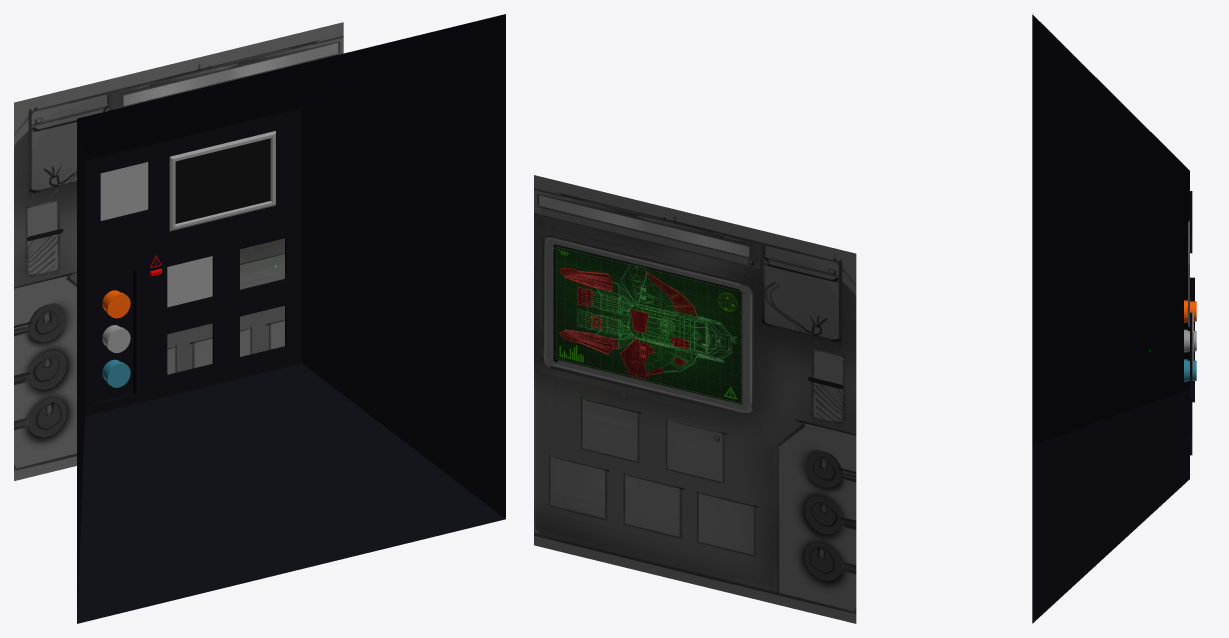
The model's file is Engineer_panel.FBX.
The picture shows the model from 3 angles, left to right: view 1: azimuth 30°, elevation 25°; view 2: azimuth 150°, elevation 25°; view 3: azimuth 270°, elevation 25°; orthographic projection. The views are drawn at different scales.
Parts seen in each view (by area): view 1: Engineer_panel, Plane005, Screen, Door_wires, lower_door, upper_door; view 2: Plane005; view 3: Engineer_panel.
Boxes of the visible parts, left/top/right/bottom form: Engineer_panel: left=77, top=14, right=505, bottom=623; Plane005: left=14, top=22, right=343, bottom=480; Screen: left=169, top=131, right=275, bottom=231; Door_wires: left=100, top=162, right=148, bottom=220; lower_door: left=167, top=279, right=212, bottom=307; upper_door: left=167, top=256, right=212, bottom=282; Plane005: left=534, top=175, right=856, bottom=623; Engineer_panel: left=1032, top=14, right=1194, bottom=623.
Bounding box in the file's own units: 3.07 × 3.46 × 1.33.
10 materials, 1 textured.
